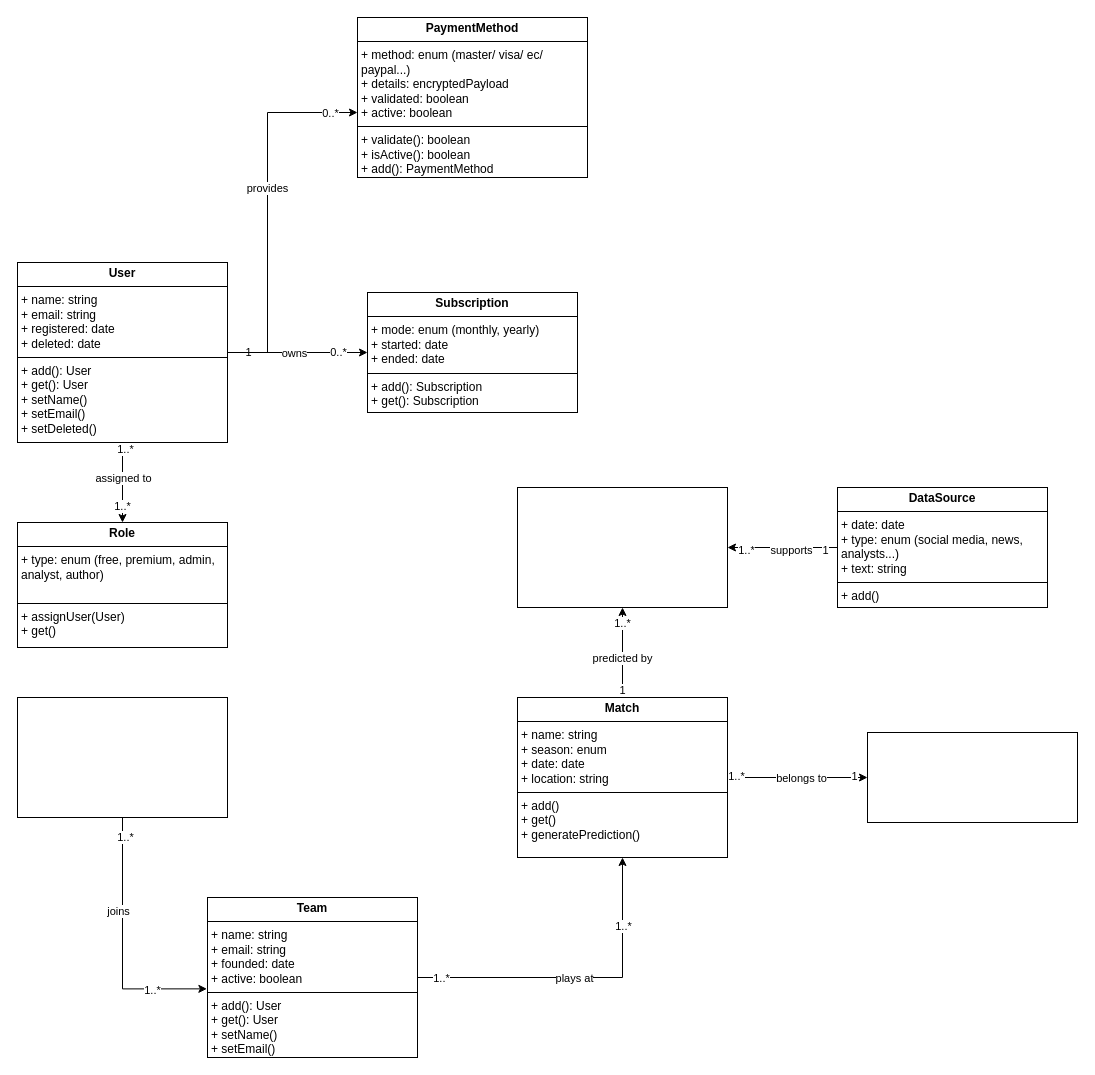
The diagram is 1095 pixels wide and 1075 high, and some of its shapes have lost their labels. The shapes that lost their labels are listed below. From the top down, each one's box as (x1, y1, x2, y2) in pixels, then its label:
(516, 486, 728, 608): Prediction + date: date + details: payload + generate() + get() + validate()
(16, 696, 228, 818): Player + name: string + debuted: date + age: int + add() + get()
(866, 732, 1078, 822): League + name : string + add() + get()
